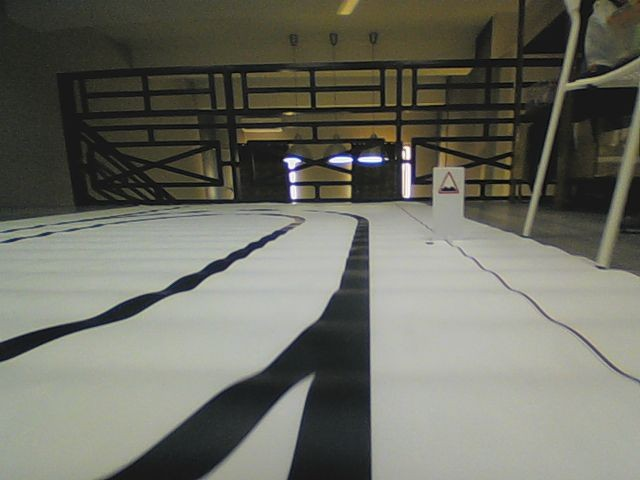Nerov: (436, 169, 460, 195)
